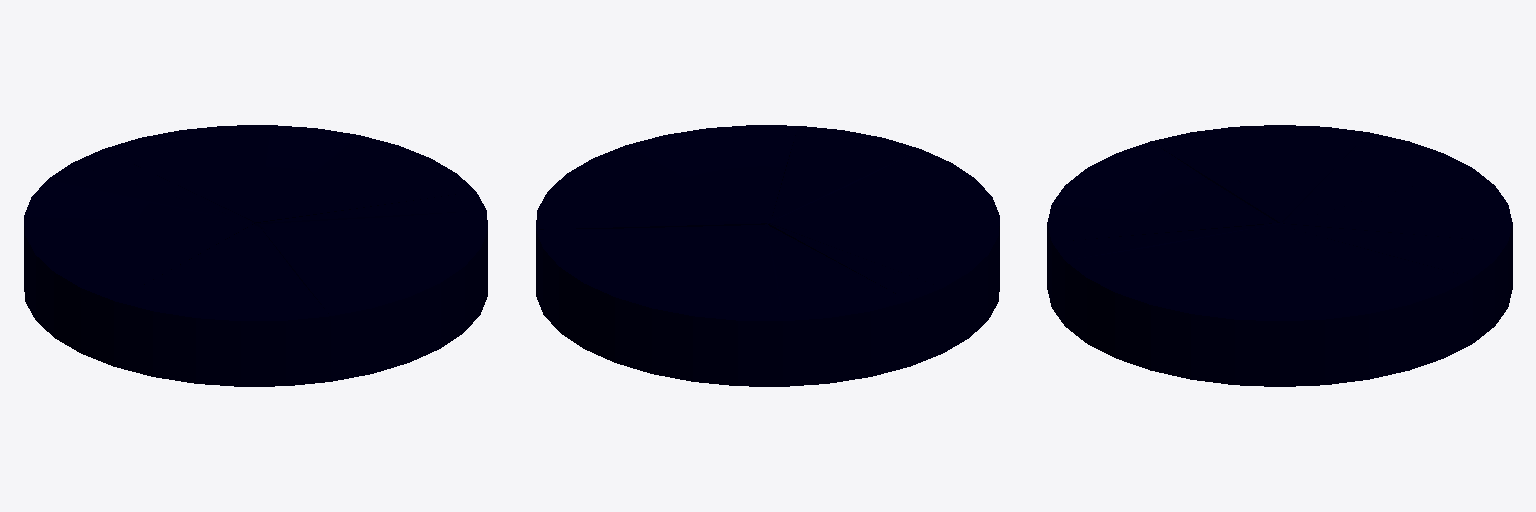
The model's file is car_bed_glass_blue_deulax.obj.
3 renders of one model, left to right at view 1: azimuth 30°, elevation 25°; view 2: azimuth 150°, elevation 25°; view 3: azimuth 270°, elevation 25°, orthographic.
Visible parts, largest first — view 1: Circle_Circle.001; view 2: Circle_Circle.001; view 3: Circle_Circle.001.
Boxes of the visible parts, <box> form: Circle_Circle.001: <box>24,125,487,386</box>; Circle_Circle.001: <box>536,125,999,386</box>; Circle_Circle.001: <box>1047,125,1512,386</box>.
Size of the model in its own units: 2.01 by 0.3199 by 2.01.